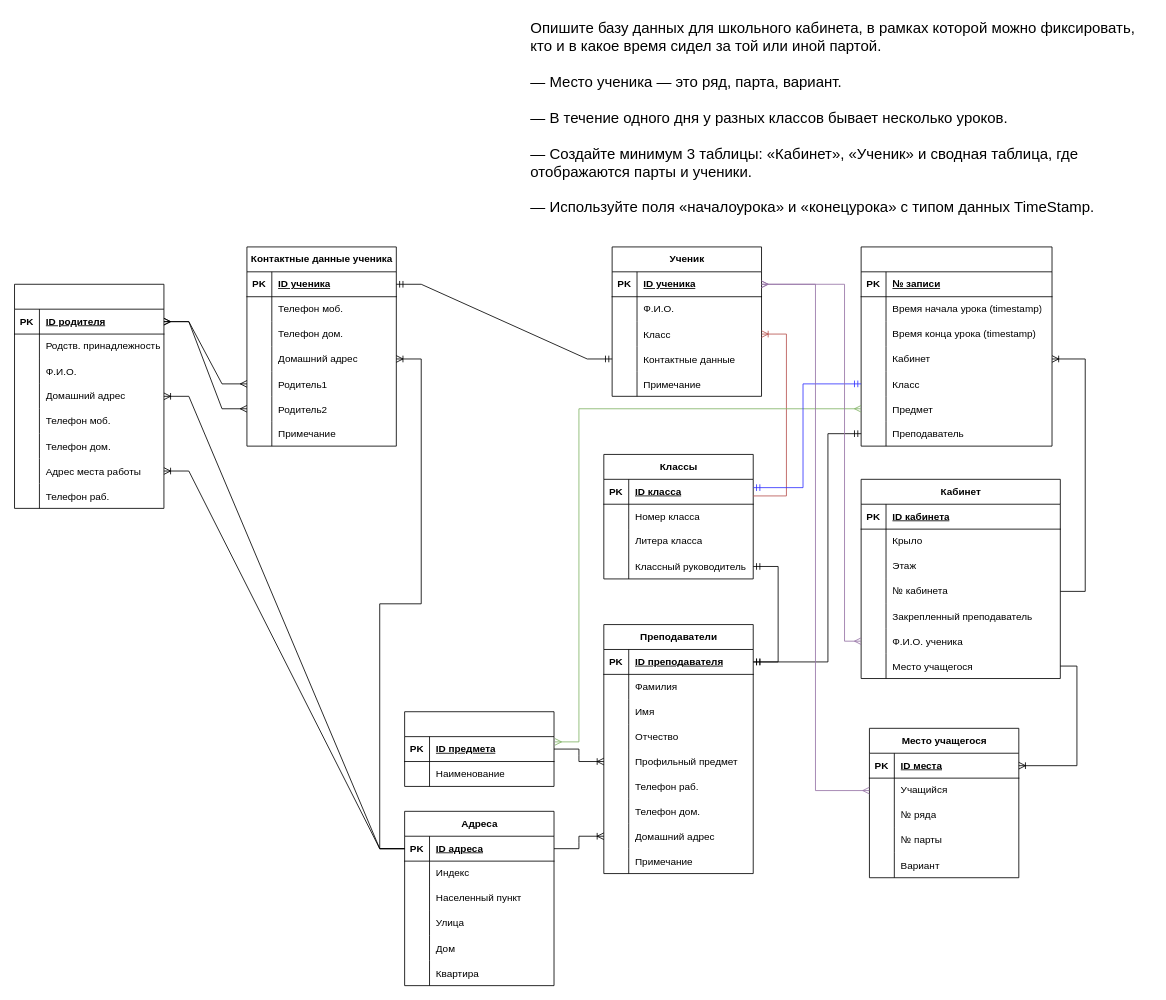
Image size: 1166x1000. Some labels were removed from this diagram. The box of each missing label's shape, as (x1, y1, x2, y2) in pixels:
Предметы: (404, 711, 554, 786)
Расписание: (860, 246, 1052, 446)
Родитель: (14, 283, 164, 508)
